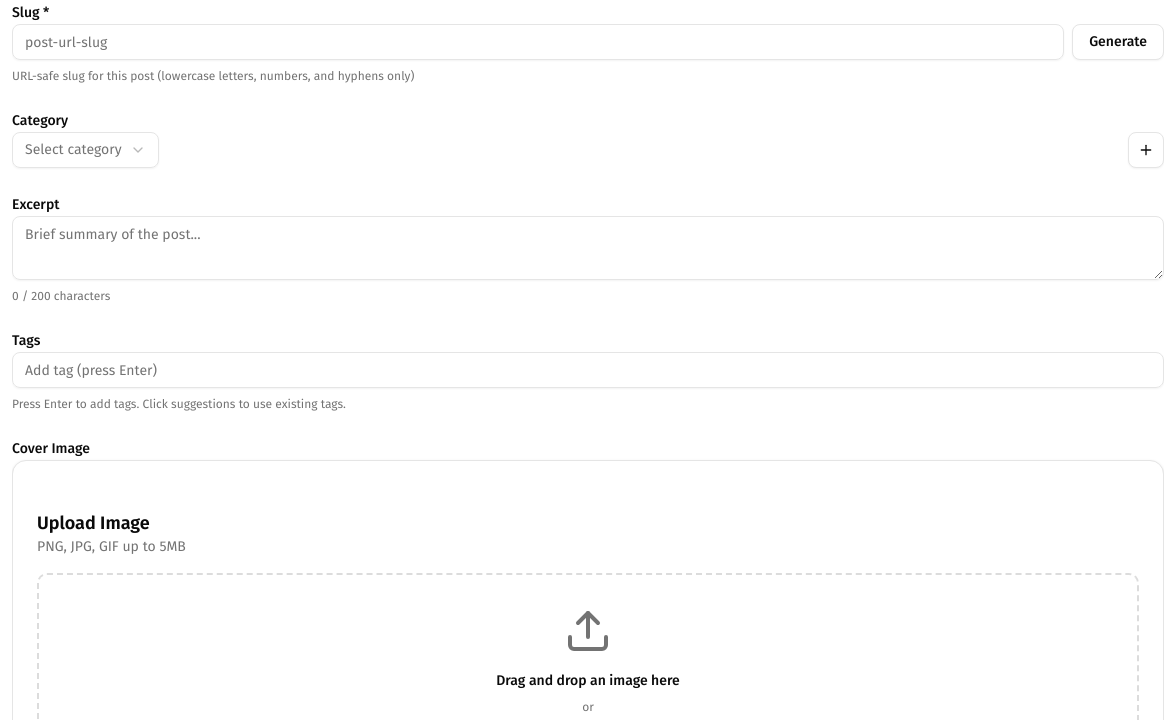
Test: BlogPostMetadata › Tag Management › should show tag suggestions from existing tags
The image size is (1176, 720).
Type "java" into the field with placeholder "Add tag (press Enter)" at (588, 370), box [12, 352, 1164, 388]
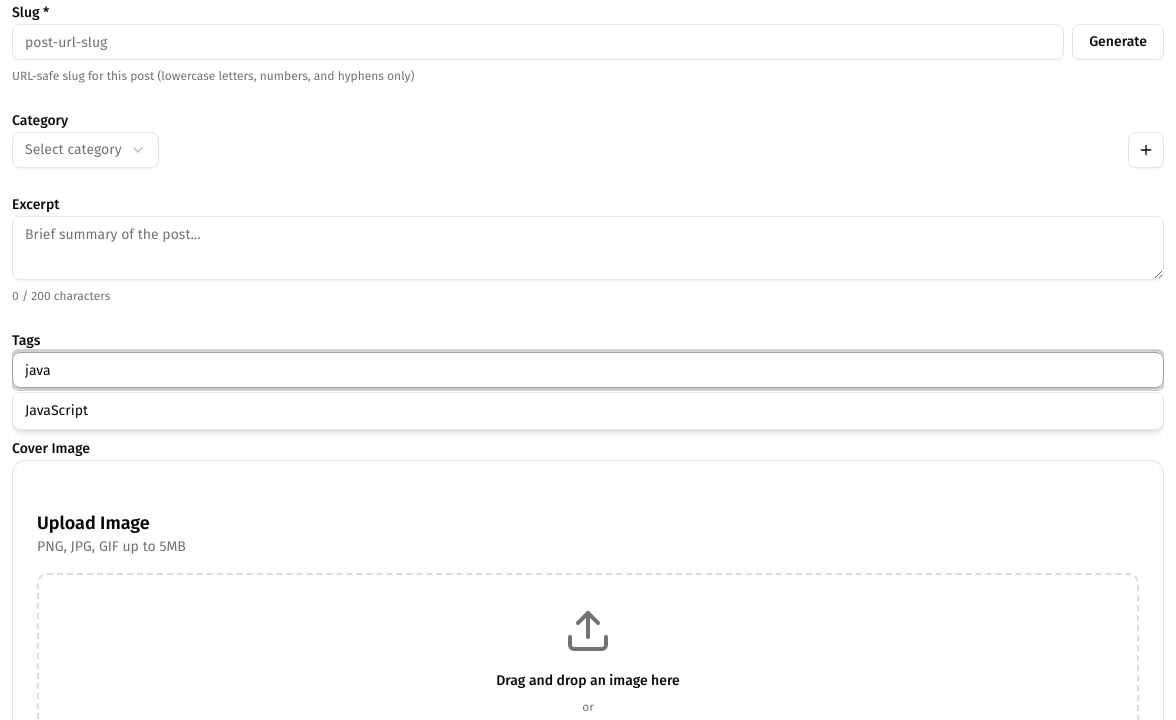
Expected: the button "JavaScript" is shown, [13, 393, 1163, 429]
